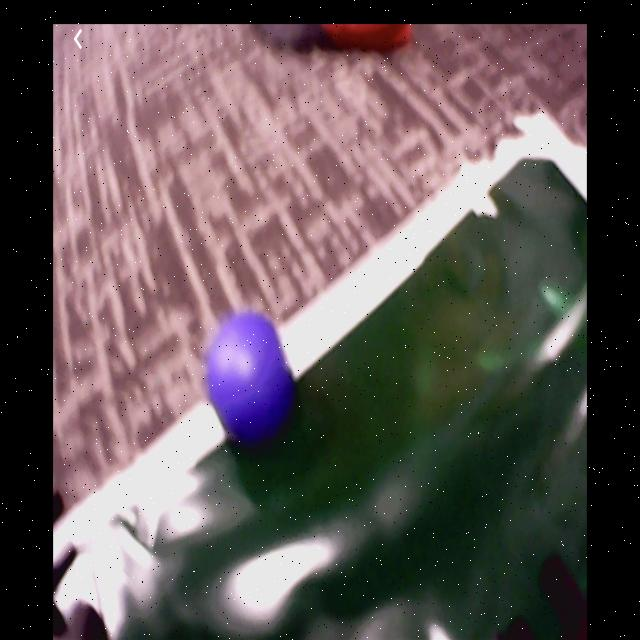ball: (209, 311, 287, 432)
